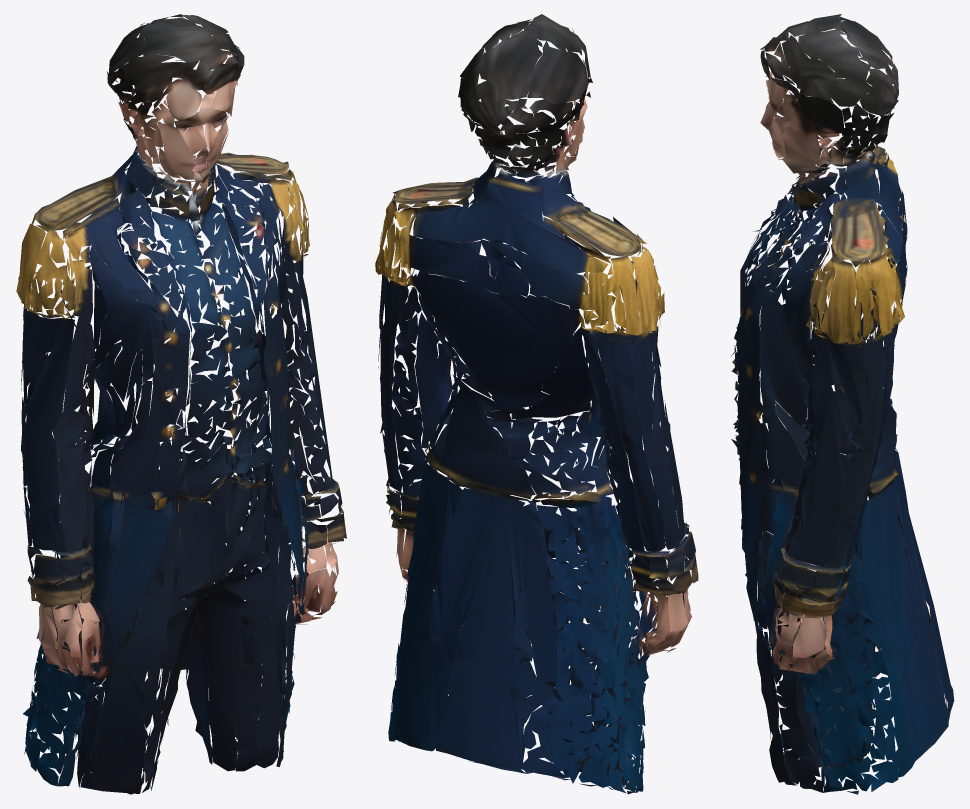
Rendered from char_adult_m_officer.glb.
The picture shows the model from 3 angles, left to right: view 1: azimuth 30°, elevation 25°; view 2: azimuth 150°, elevation 25°; view 3: azimuth 270°, elevation 25°; orthographic projection. The views are drawn at different scales.
Visible parts, largest first — view 1: geometry_0; view 2: geometry_0; view 3: geometry_0.
Boxes of the visible parts, x1=… form: geometry_0: x1=16, y1=14, x2=346, y2=794; geometry_0: x1=375, y1=14, x2=698, y2=794; geometry_0: x1=730, y1=14, x2=954, y2=794.
Bounding box in the file's own units: 0.7692 × 1.8 × 0.5103.
1 material, 1 textured.
